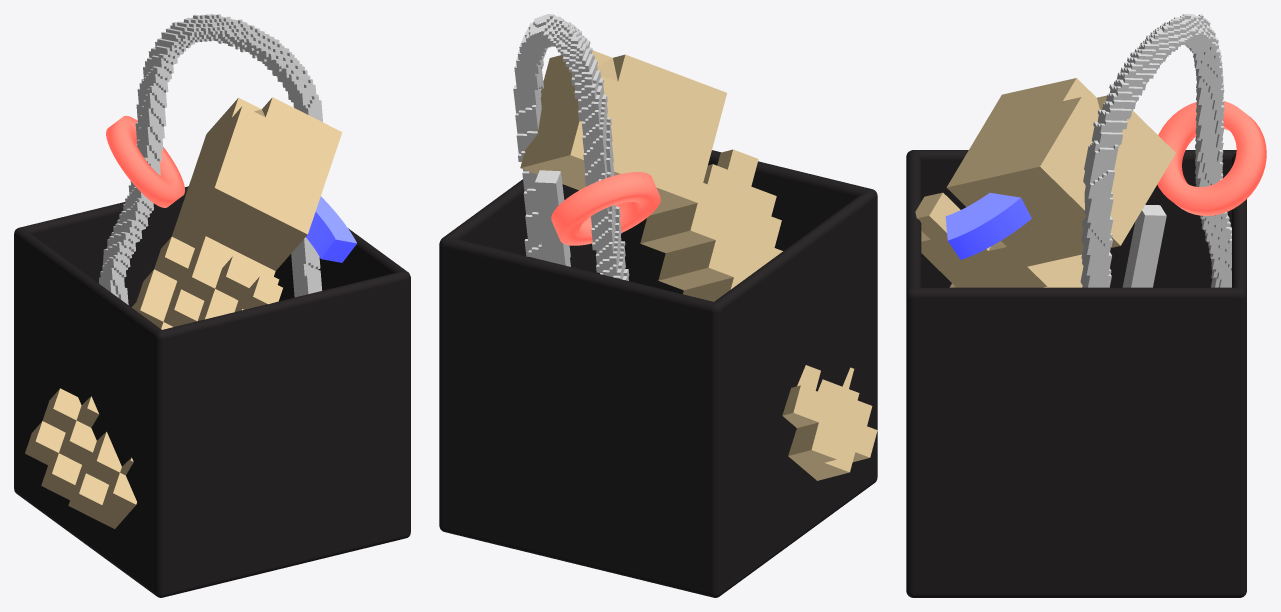
3 renders of one model, left to right at view 1: azimuth 30°, elevation 25°; view 2: azimuth 150°, elevation 25°; view 3: azimuth 270°, elevation 25°, orthographic. The views are drawn at different scales.
Parts seen in each view (by area): view 1: Cube.001, Cube, NurbsPath, BézierCircle, NurbsCurve; view 2: Cube.001, Cube, NurbsPath, BézierCircle; view 3: Cube.001, Cube, NurbsPath, BézierCircle, NurbsCurve.
Boxes of the visible parts, box(x1,y1,x2,y2) form: Cube.001: box(14, 186, 410, 597); Cube: box(25, 97, 342, 528); NurbsPath: box(99, 14, 322, 304); BézierCircle: box(106, 115, 184, 207); NurbsCurve: box(306, 196, 356, 262); Cube.001: box(439, 150, 877, 597); Cube: box(520, 50, 877, 480); NurbsPath: box(513, 14, 629, 280); BézierCircle: box(551, 172, 660, 245); Cube.001: box(906, 150, 1246, 597); Cube: box(915, 78, 1175, 287); NurbsPath: box(1080, 14, 1231, 287); BézierCircle: box(1157, 101, 1266, 215); NurbsCurve: box(945, 193, 1031, 259).
Bounding box in the file's own units: 1.19 × 1.73 × 1.06.
